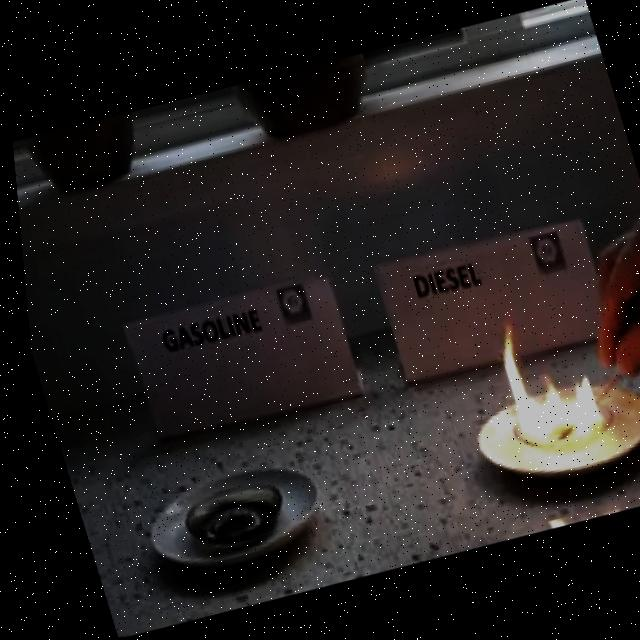Fire: (476, 298, 606, 461)
